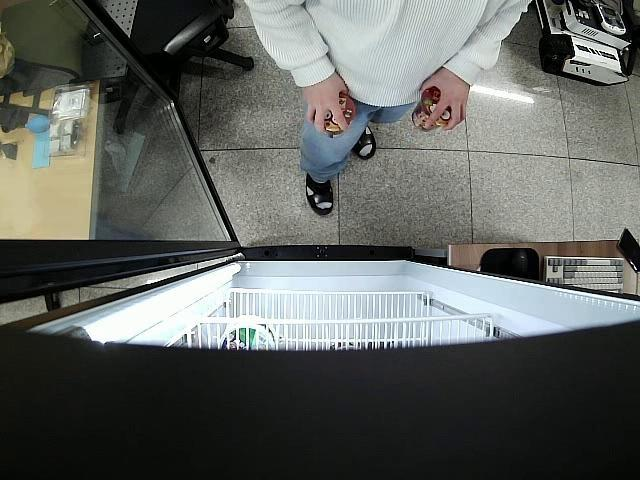06_nuguri_S: (411, 86, 450, 133), (314, 94, 356, 134)
